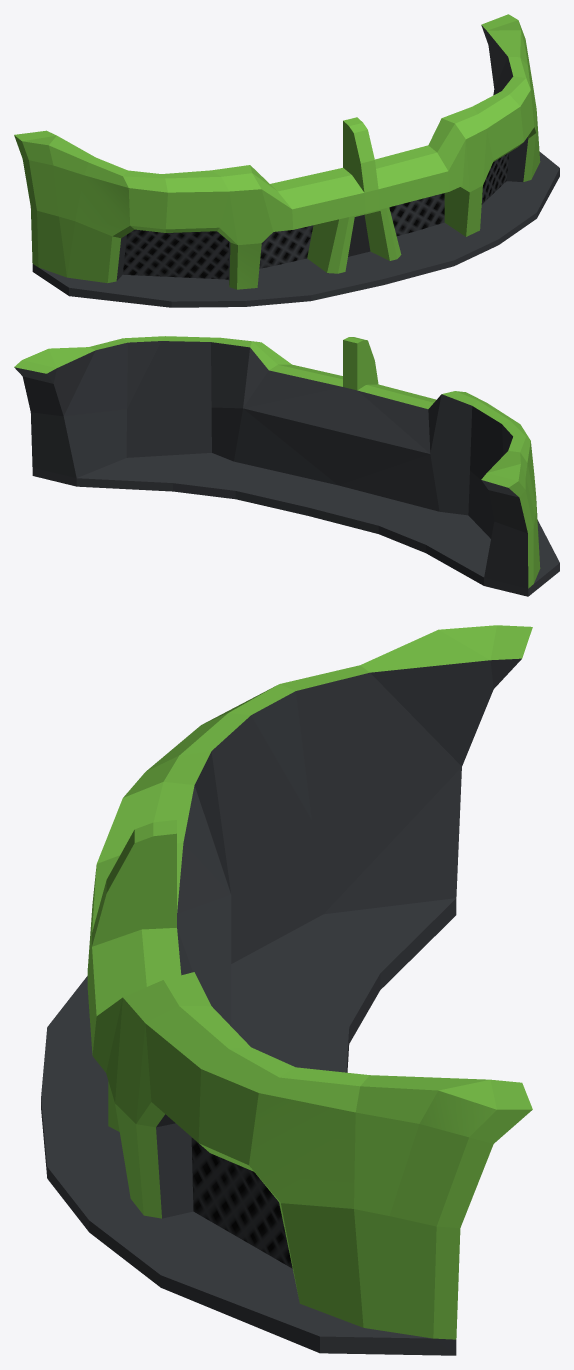
The model's file is SM_Veh_Touring_01_Front_Bumper_01.fbx.
3 renders of one model, top to bottom at view 1: azimuth 30°, elevation 25°; view 2: azimuth 150°, elevation 25°; view 3: azimuth 270°, elevation 25°, orthographic. The views are drawn at different scales.
Parts seen in each view (by area): view 1: SM_Veh_Touring_01_Front_Bumper_01; view 2: SM_Veh_Touring_01_Front_Bumper_01; view 3: SM_Veh_Touring_01_Front_Bumper_01.
Part boxes in pixels (<box>): SM_Veh_Touring_01_Front_Bumper_01: <box>14,14,559,307</box>; SM_Veh_Touring_01_Front_Bumper_01: <box>14,336,559,596</box>; SM_Veh_Touring_01_Front_Bumper_01: <box>41,625,532,1355</box>.
Size of the model in its own units: 213 by 58.67 by 91.11.
